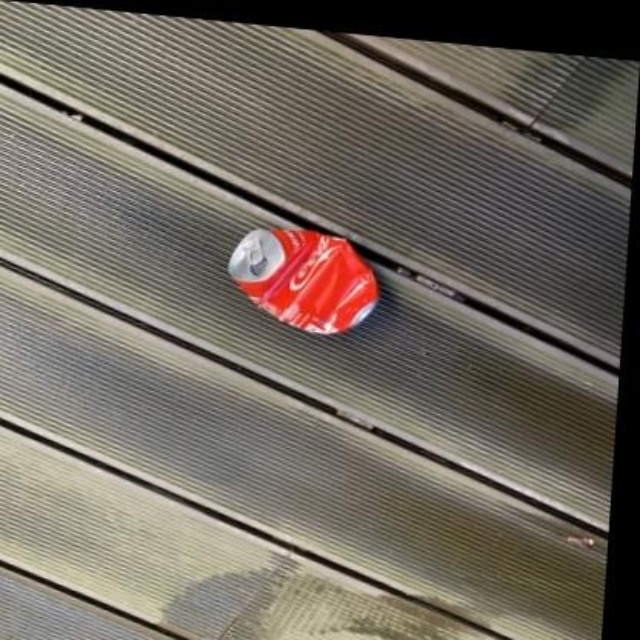trash: (228, 229, 377, 332)
